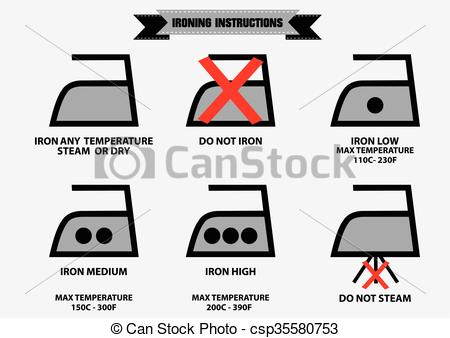do_not_iron: (187, 55, 276, 128)
